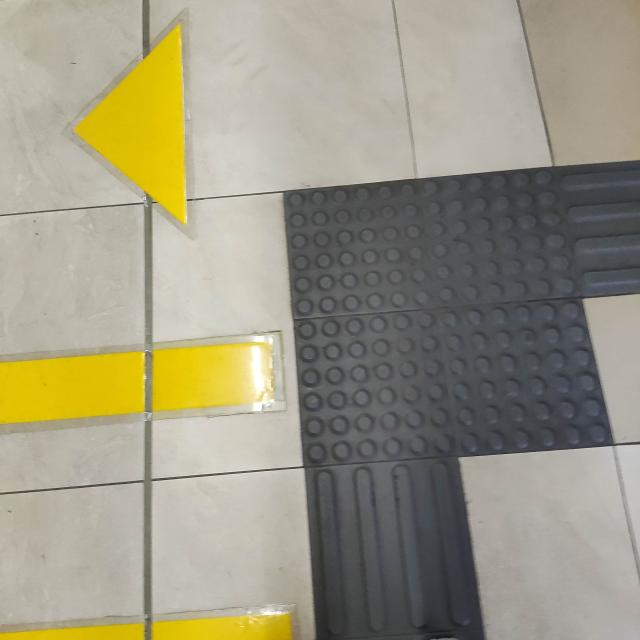kanan: (201, 127, 640, 522)
